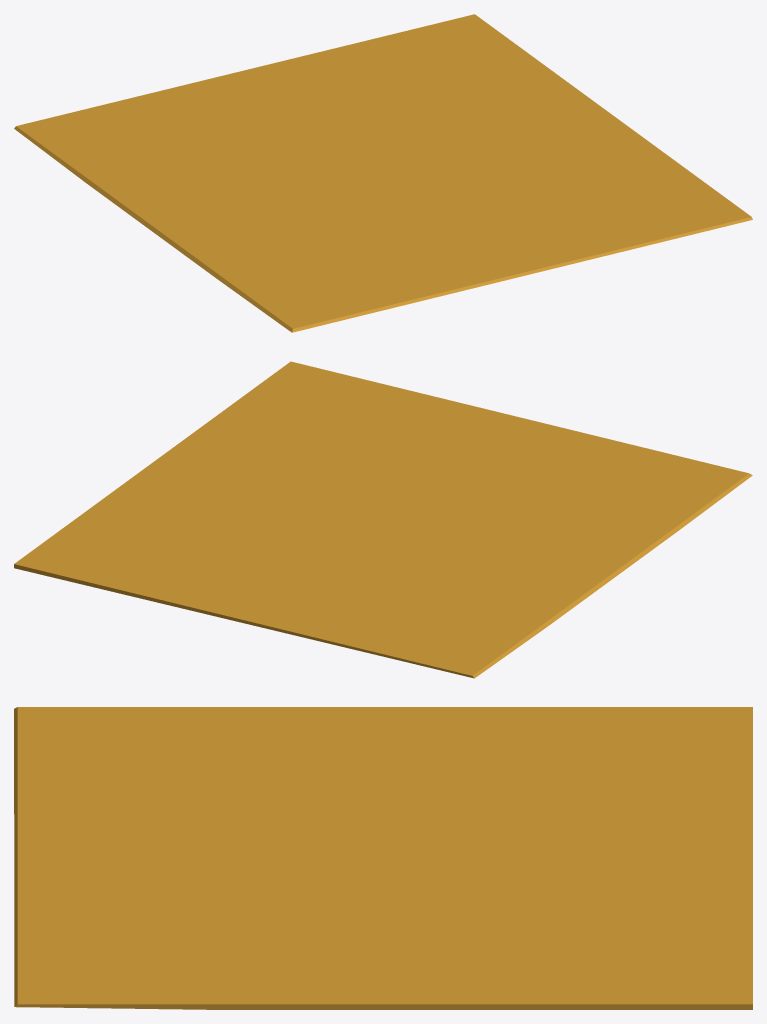
The model's file is musicroomceilingcolor.fbx.
3 views of the same model, one above another, from view 1: azimuth 30°, elevation 25°; view 2: azimuth 150°, elevation 25°; view 3: azimuth 270°, elevation 25° (orthographic). The views are drawn at different scales.
Parts seen in each view (by area): view 1: polySurface95; view 2: polySurface95; view 3: polySurface95.
Boxes of the visible parts, box(x1,y1,x2,y2) form: polySurface95: box(14, 14, 752, 332); polySurface95: box(14, 361, 752, 678); polySurface95: box(14, 707, 752, 1009).
Size of the model in its own units: 19.04 by 0.2825 by 19.88.
